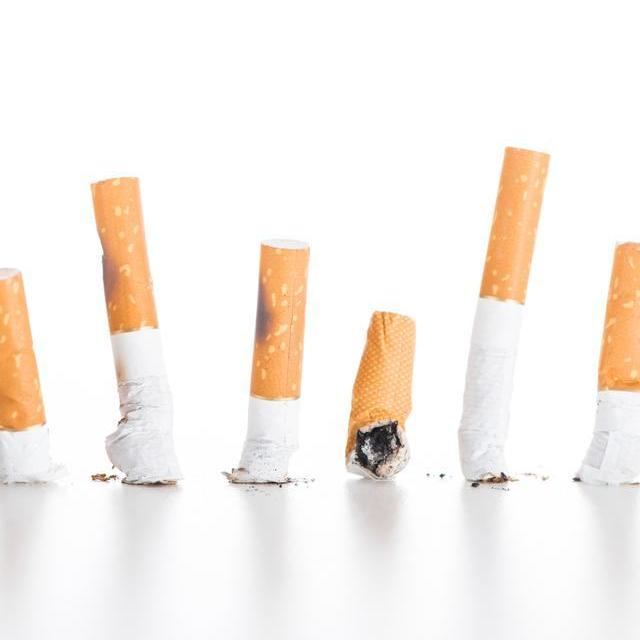Cigarette Butt: (456, 145, 553, 484), (87, 174, 186, 488), (221, 237, 312, 487), (570, 239, 640, 486), (0, 265, 70, 484), (343, 310, 418, 482)
